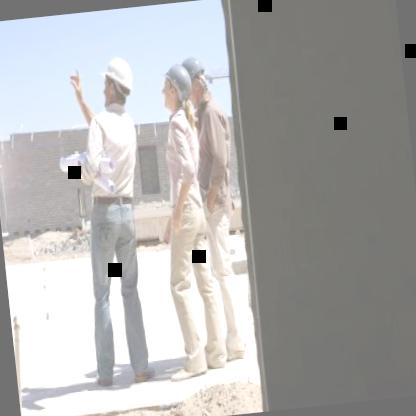helmet: (98, 52, 136, 112), (158, 63, 194, 114), (178, 52, 212, 106)
